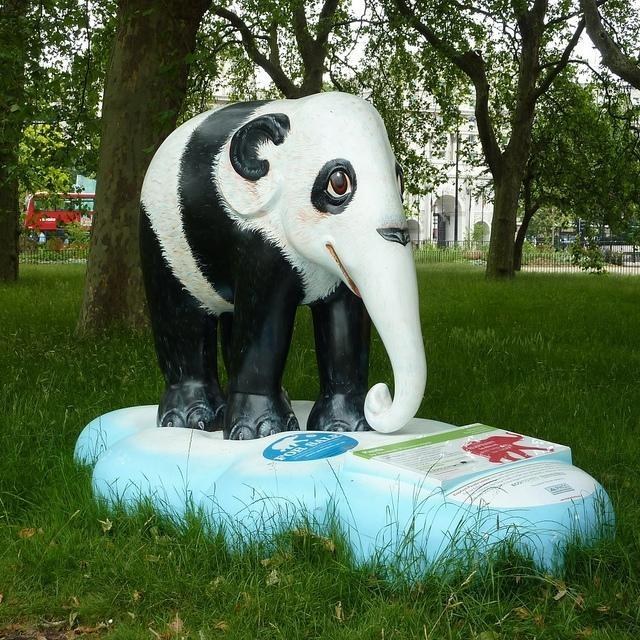bus: (13, 186, 92, 234)
